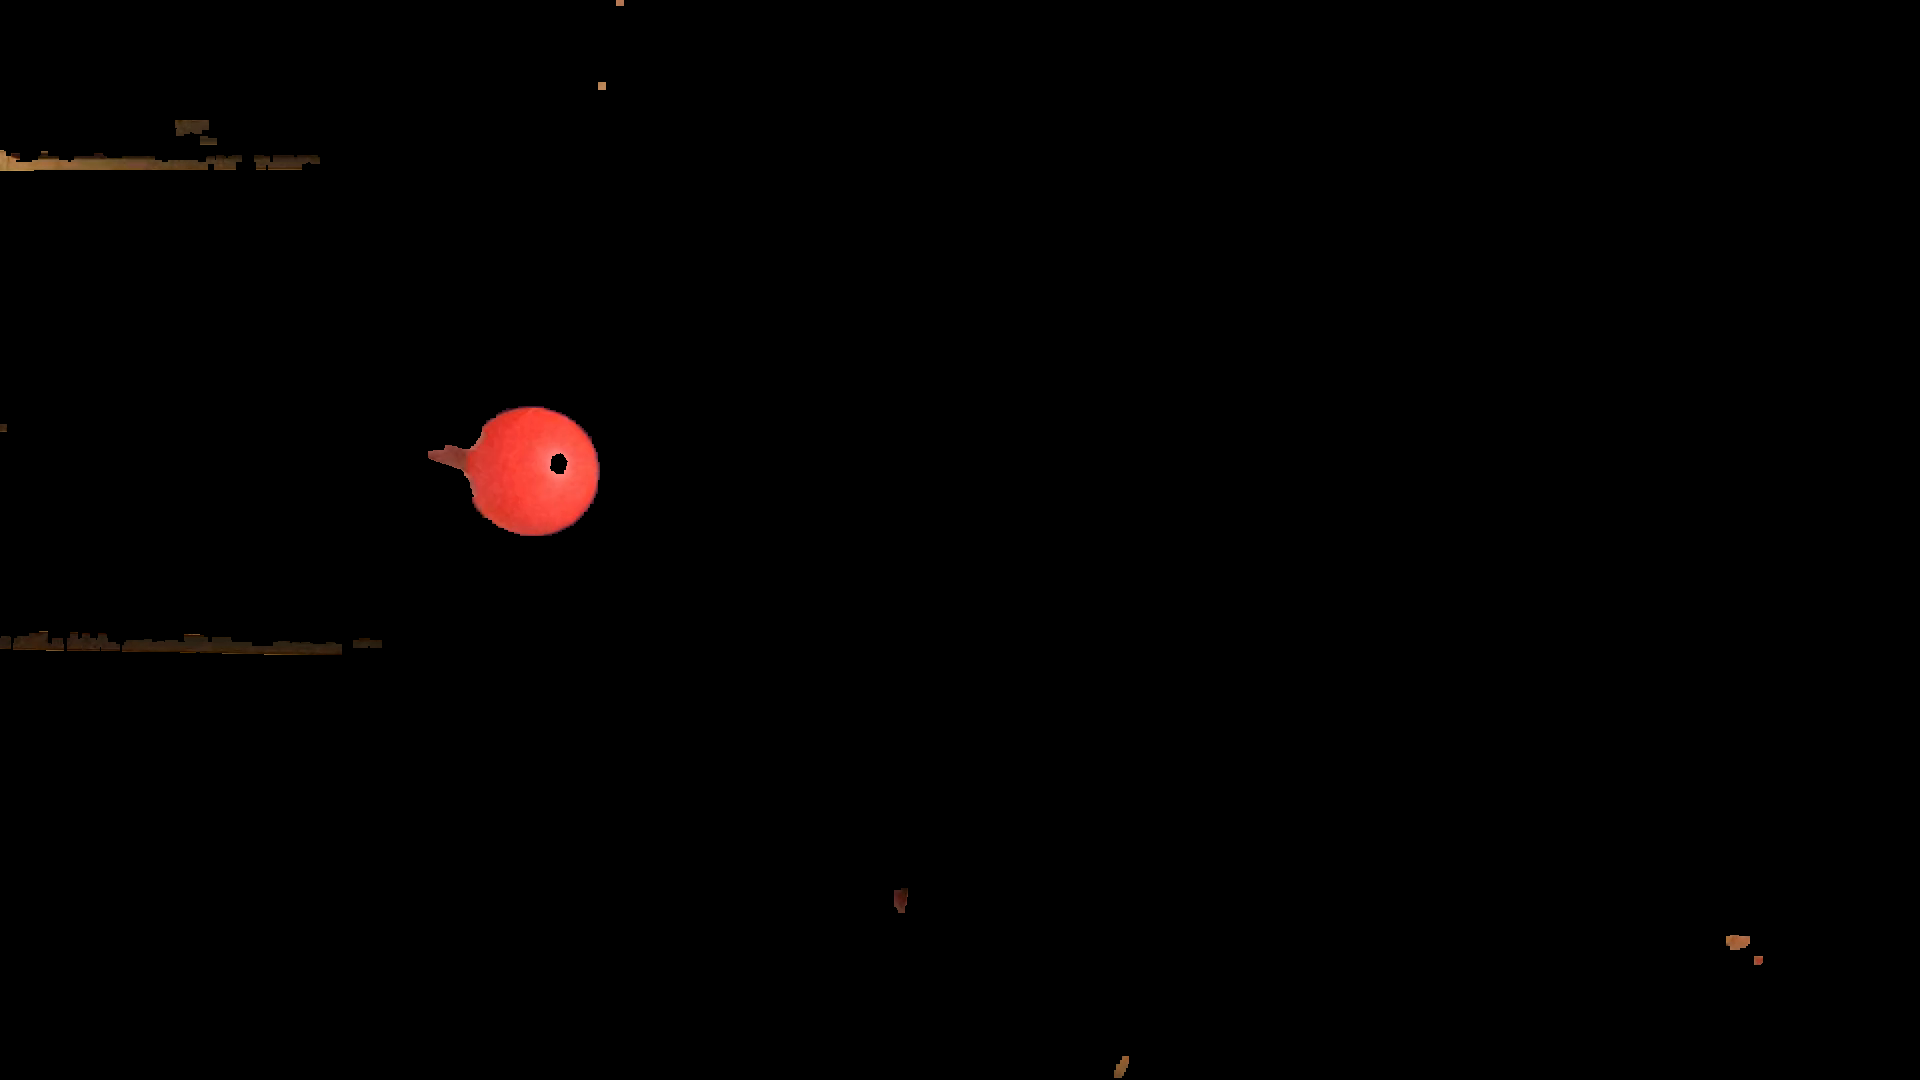Ball: (459, 407, 600, 535)
